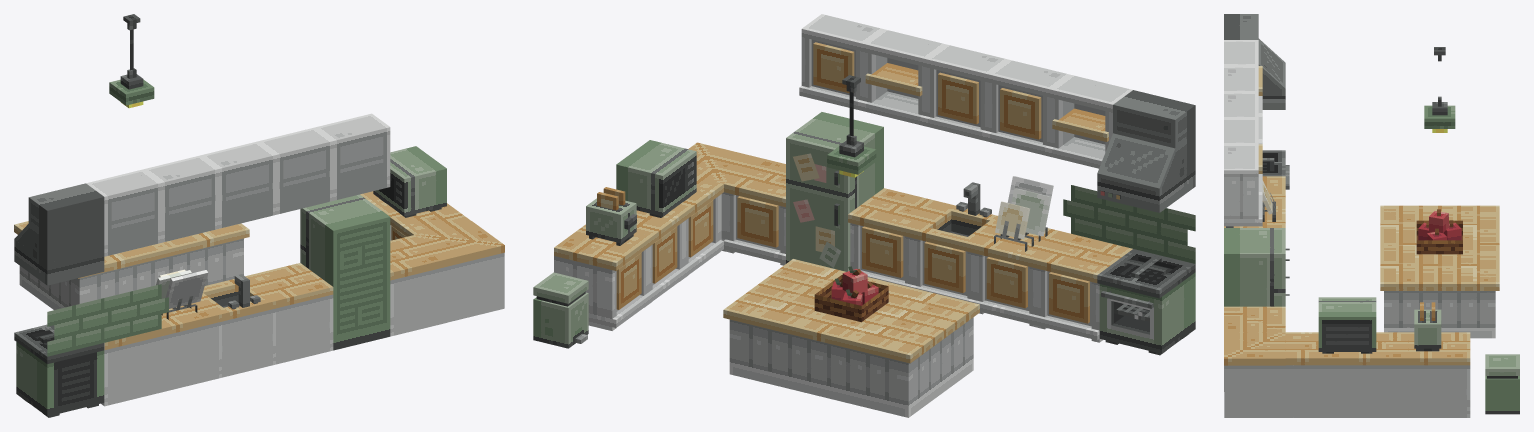
File: modern-kitchen-furniture.glb
3 views of the same model, side by side, from view 1: azimuth 30°, elevation 25°; view 2: azimuth 150°, elevation 25°; view 3: azimuth 270°, elevation 25° (orthographic). The views are drawn at different scales.
Parts seen in each view (by area): view 1: _gltfNode_353, _gltfNode_76, _gltfNode_65, _gltfNode_346, _gltfNode_309, _gltfNode_116, _gltfNode_129, _gltfNode_142, _gltfNode_278, _gltfNode_174, _gltfNode_157, _gltfNode_0 (+39 smaller); view 2: _gltfNode_76, _gltfNode_74, _gltfNode_353, _gltfNode_309, _gltfNode_346, _gltfNode_65, _gltfNode_71, _gltfNode_2, _gltfNode_0, _gltfNode_221, _gltfNode_195, _gltfNode_67 (+55 smaller); view 3: _gltfNode_74, _gltfNode_353, _gltfNode_76, _gltfNode_278, _gltfNode_309, _gltfNode_202, _gltfNode_254, _gltfNode_267, _gltfNode_280, _gltfNode_114, _gltfNode_234, _gltfNode_208 (+25 smaller).
Part boxes in pixels (x1,y1,x2,y2): _gltfNode_353: [300, 194, 390, 350]; _gltfNode_76: [19, 238, 243, 309]; _gltfNode_65: [28, 183, 104, 262]; _gltfNode_346: [16, 342, 104, 416]; _gltfNode_309: [373, 146, 446, 216]; _gltfNode_116: [324, 117, 383, 198]; _gltfNode_129: [210, 144, 268, 226]; _gltfNode_142: [152, 159, 211, 240]; _gltfNode_278: [451, 252, 504, 321]; _gltfNode_174: [108, 181, 154, 254]; _gltfNode_157: [279, 140, 325, 212]; _gltfNode_0: [104, 284, 168, 342]; _gltfNode_76: [729, 317, 973, 417]; _gltfNode_74: [723, 259, 979, 363]; _gltfNode_353: [786, 112, 883, 271]; _gltfNode_309: [616, 140, 696, 216]; _gltfNode_346: [1099, 272, 1195, 353]; _gltfNode_65: [1113, 90, 1195, 176]; _gltfNode_71: [1097, 133, 1175, 188]; _gltfNode_2: [1125, 206, 1195, 263]; _gltfNode_0: [1063, 185, 1133, 248]; _gltfNode_221: [1035, 233, 1132, 283]; _gltfNode_195: [848, 188, 945, 237]; _gltfNode_67: [1097, 162, 1195, 212]; _gltfNode_74: [1380, 205, 1499, 290]; _gltfNode_353: [1224, 228, 1285, 306]; _gltfNode_76: [1384, 291, 1495, 338]; _gltfNode_278: [1224, 365, 1285, 417]; _gltfNode_309: [1318, 297, 1376, 351]; _gltfNode_202: [1416, 365, 1462, 417]; _gltfNode_254: [1293, 365, 1339, 417]; _gltfNode_267: [1354, 365, 1400, 417]; _gltfNode_280: [1224, 332, 1285, 365]; _gltfNode_114: [1224, 167, 1258, 226]; _gltfNode_234: [1224, 306, 1285, 332]; _gltfNode_208: [1408, 332, 1470, 365].
Size of the model in its own units: 8 by 4.5 by 4.8.
18 materials, 18 textured.
